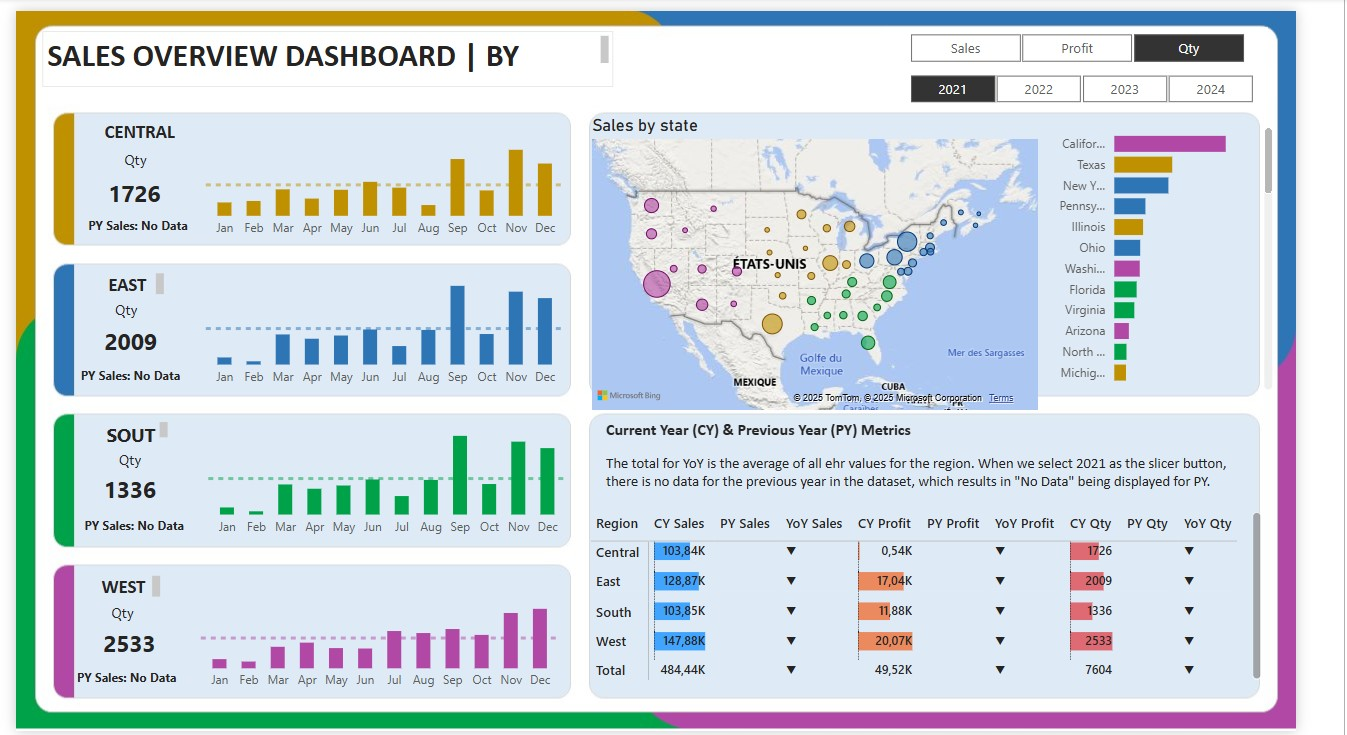

What the dashboard file says about the page in this screenshot:
{"tool":"powerbi","page":{"name":"Page 1","canvas":[1280,720],"ordinal":0},"visuals":[{"type":"slicer","fields":{"Values":["Select Metric.Select Metric"]},"box":[868.6,15.7,382.9,41.4],"z":0},{"type":"card","fields":{"Values":["Sales Data.Total Qty"]},"box":[60.7,166.4,114.3,35.7],"z":1000},{"type":"textbox","box":[76.2,105.4,94.6,36.2],"z":2000},{"type":"slicer","fields":{"Values":["Calendar Table.Year"]},"box":[868.9,57.8,392.2,34.4],"z":3000},{"type":"card","fields":{"Values":["Sales Data.Dynamic Title"]},"box":[79.2,135.4,81.5,32.3],"z":4000},{"type":"card","fields":{"Values":["Sales Data.PY KPI Sales"]},"box":[63.1,202.3,119.2,28.5],"z":5000},{"type":"clusteredColumnChart","fields":{"Y":["Sales Data.Total Qty"],"Category":["Calendar Table.Month"]},"box":[185,105,368.3,130],"z":6000},{"type":"textbox","box":[26.2,20,571.2,56.2],"z":7000},{"type":"card","fields":{"Values":["Sales Data.Total Qty"]},"box":[58.6,315.7,112.1,30.7],"z":8000},{"type":"textbox","box":[77.7,256.9,75.4,31.5],"z":9000},{"type":"card","fields":{"Values":["Sales Data.Dynamic Title"]},"box":[73.8,287.7,73.1,27.7],"z":10000},{"type":"card","fields":{"Values":["Sales Data.PY KPI Sales"]},"box":[55.4,352.3,119.2,28.5],"z":11000},{"type":"clusteredColumnChart","fields":{"Y":["Sales Data.Total Qty"],"Category":["Calendar Table.Month"]},"box":[184.5,254.1,368.3,130],"z":12000},{"type":"card","fields":{"Values":["Sales Data.Total Qty"]},"box":[57.9,465,112.9,30.7],"z":13000},{"type":"textbox","box":[80.9,406.6,75.4,31.5],"z":14000},{"type":"card","fields":{"Values":["Sales Data.Dynamic Title"]},"box":[77.1,437.4,73.1,27.7],"z":15000},{"type":"card","fields":{"Values":["Sales Data.PY KPI Sales"]},"box":[58.6,502,119.2,28.5],"z":16000},{"type":"clusteredColumnChart","fields":{"Y":["Sales Data.Total Qty"],"Category":["Calendar Table.Month"]},"box":[187.8,403.8,368.3,130],"z":17000},{"type":"card","fields":{"Values":["Sales Data.Total Qty"]},"box":[58.6,618.6,109.3,30.7],"z":18000},{"type":"textbox","box":[73.5,559.8,75.4,31.5],"z":19000},{"type":"card","fields":{"Values":["Sales Data.Dynamic Title"]},"box":[69.7,590.6,73.1,27.7],"z":20000},{"type":"card","fields":{"Values":["Sales Data.PY KPI Sales"]},"box":[51.2,655.2,119.2,28.5],"z":21000},{"type":"clusteredColumnChart","fields":{"Y":["Sales Data.Total Qty"],"Category":["Calendar Table.Month"]},"box":[180.4,557,368.3,130],"z":22000},{"type":"map","title":"Sales by state","fields":{"Category":["Sales Data.State/Province"],"Series":["Sales Data.Region"],"Size":["Sales Data.Total Qty"]},"box":[571.2,103.8,456.2,300],"z":22001},{"type":"barChart","fields":{"Category":["Sales Data.State/Province"],"Y":["Sales Data.Total Qty"],"Series":["Sales Data.Region"]},"box":[1027,104,234,280],"z":22002},{"type":"pivotTable","fields":{"Rows":["Sales Data.Region"],"Values":["Sales Data.CY Sales","Sales Data.PY Sales","Sales Data.YoY Sales","Sales Data.CY Profit","Sales Data.PY Profit","Sales Data.YoY Profit","Sales Data.CY Qty","Sales Data.PY Qty","Sales Data.YoY Qty"]},"box":[570,496.2,680,177.5],"z":22003},{"type":"textbox","box":[585,437.5,650,58.8],"z":22004},{"type":"textbox","box":[585,403.8,388.8,33.8],"z":22005}]}

Visuals, with their boxes on the page's 1280x720 design canvas (x1, y1, x2, y2). These are canvas units, not pixel positions in the 1347x735 screenshot, which may show the page scaled, cropped or inside an application window:
slicer - Select Metric.Select Metric: <box>869,16,1252,57</box>
card - Sales Data.Total Qty: <box>61,166,175,202</box>
textbox: <box>76,105,171,142</box>
slicer - Calendar Table.Year: <box>869,58,1261,92</box>
card - Sales Data.Dynamic Title: <box>79,135,161,168</box>
card - Sales Data.PY KPI Sales: <box>63,202,182,231</box>
clusteredColumnChart - Sales Data.Total Qty x Calendar Table.Month: <box>185,105,553,235</box>
textbox: <box>26,20,597,76</box>
card - Sales Data.Total Qty: <box>59,316,171,346</box>
textbox: <box>78,257,153,288</box>
card - Sales Data.Dynamic Title: <box>74,288,147,315</box>
card - Sales Data.PY KPI Sales: <box>55,352,175,381</box>
clusteredColumnChart - Sales Data.Total Qty x Calendar Table.Month: <box>184,254,553,384</box>
card - Sales Data.Total Qty: <box>58,465,171,496</box>
textbox: <box>81,407,156,438</box>
card - Sales Data.Dynamic Title: <box>77,437,150,465</box>
card - Sales Data.PY KPI Sales: <box>59,502,178,530</box>
clusteredColumnChart - Sales Data.Total Qty x Calendar Table.Month: <box>188,404,556,534</box>
card - Sales Data.Total Qty: <box>59,619,168,649</box>
textbox: <box>74,560,149,591</box>
card - Sales Data.Dynamic Title: <box>70,591,143,618</box>
card - Sales Data.PY KPI Sales: <box>51,655,170,684</box>
clusteredColumnChart - Sales Data.Total Qty x Calendar Table.Month: <box>180,557,549,687</box>
"Sales by state" map: <box>571,104,1027,404</box>
barChart - Sales Data.State/Province x Sales Data.Total Qty: <box>1027,104,1261,384</box>
pivotTable - Sales Data.Region x Sales Data.CY Sales: <box>570,496,1250,674</box>
textbox: <box>585,438,1235,496</box>
textbox: <box>585,404,974,438</box>
